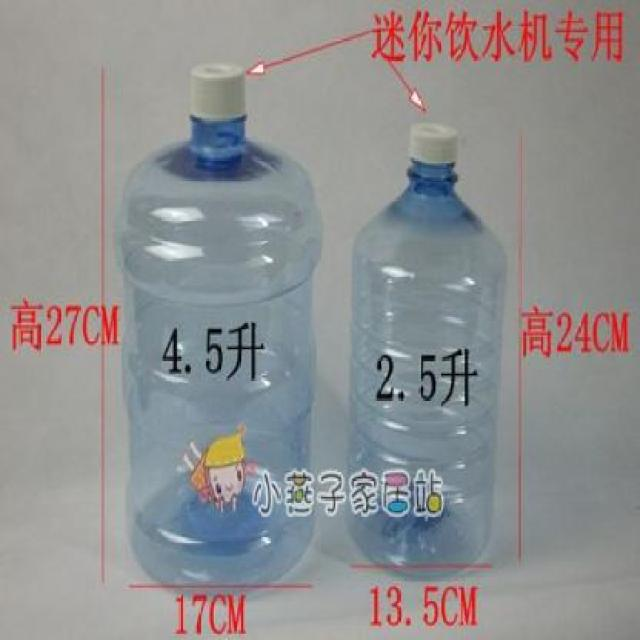coolerbottle: (109, 56, 324, 602), (342, 125, 510, 587)
